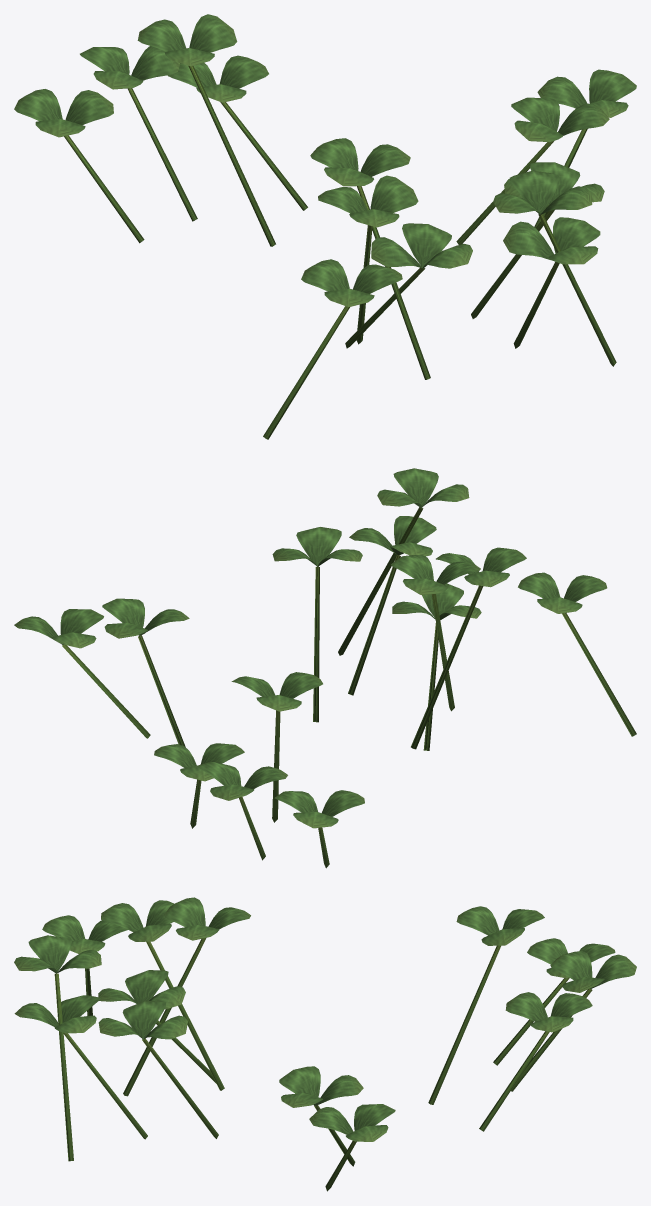
Rendered from WhiteClover_A.fbx.
3 renders of one model, top to bottom at view 1: azimuth 30°, elevation 25°; view 2: azimuth 150°, elevation 25°; view 3: azimuth 270°, elevation 25°, orthographic. The views are drawn at different scales.
Visible parts, largest first — view 1: WhiteClover_A_LOD0; view 2: WhiteClover_A_LOD0; view 3: WhiteClover_A_LOD0.
Boxes of the visible parts, x1,y1,x2,y2 form: WhiteClover_A_LOD0: [14, 14, 636, 439]; WhiteClover_A_LOD0: [14, 468, 636, 868]; WhiteClover_A_LOD0: [14, 897, 636, 1191].
Size of what is drawn, in the model's own units: 24.13 by 8.98 by 28.44.
Materials: 1 (1 with a texture image).
